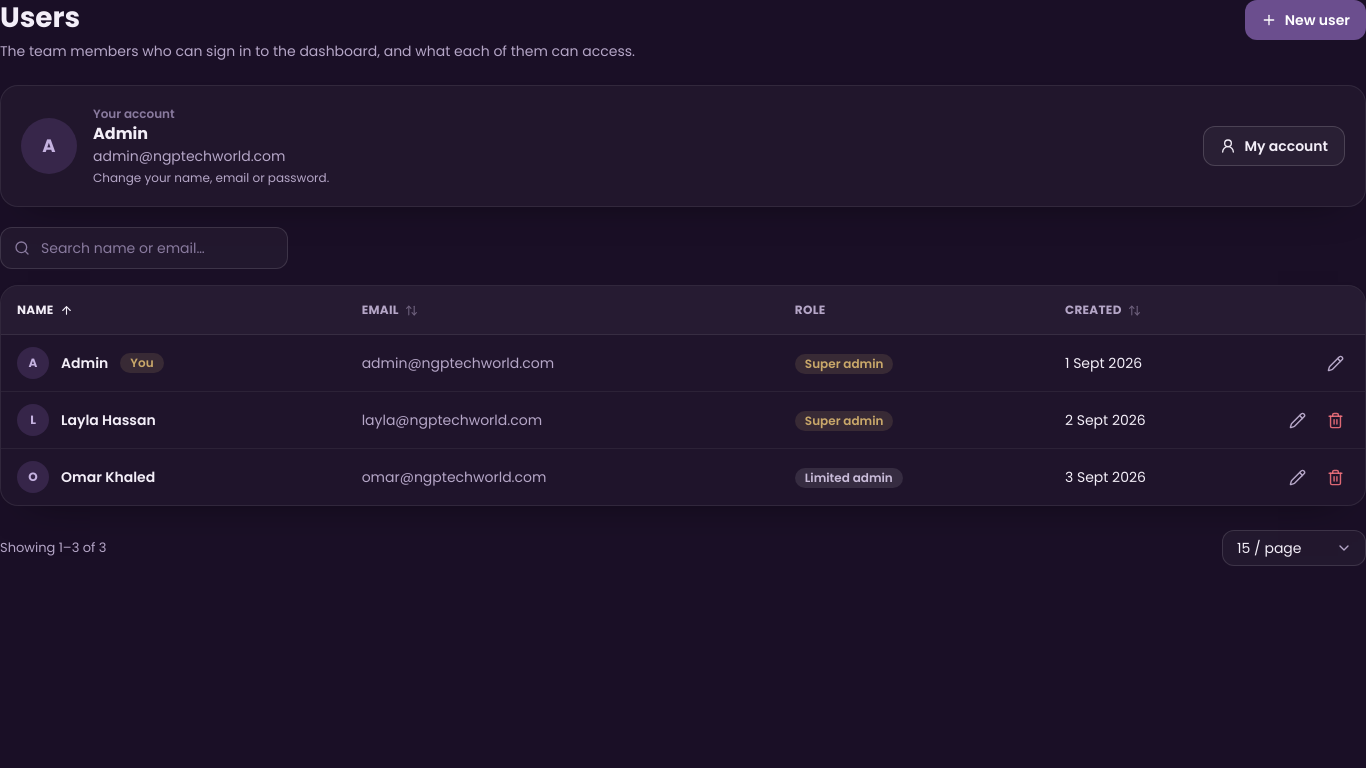
it: UserList › delete › does nothing when the dialog is cancelled
Check: the text "Layla Hassan" is shown, box x1=61 y1=410 x2=156 y2=430
What coordinates should you click on to do the following:
click the button named "Delete" in the row of "Layla Hassan"
I would click on:
 (1335, 420)
Its box is x1=1317 y1=402 x2=1353 y2=438.
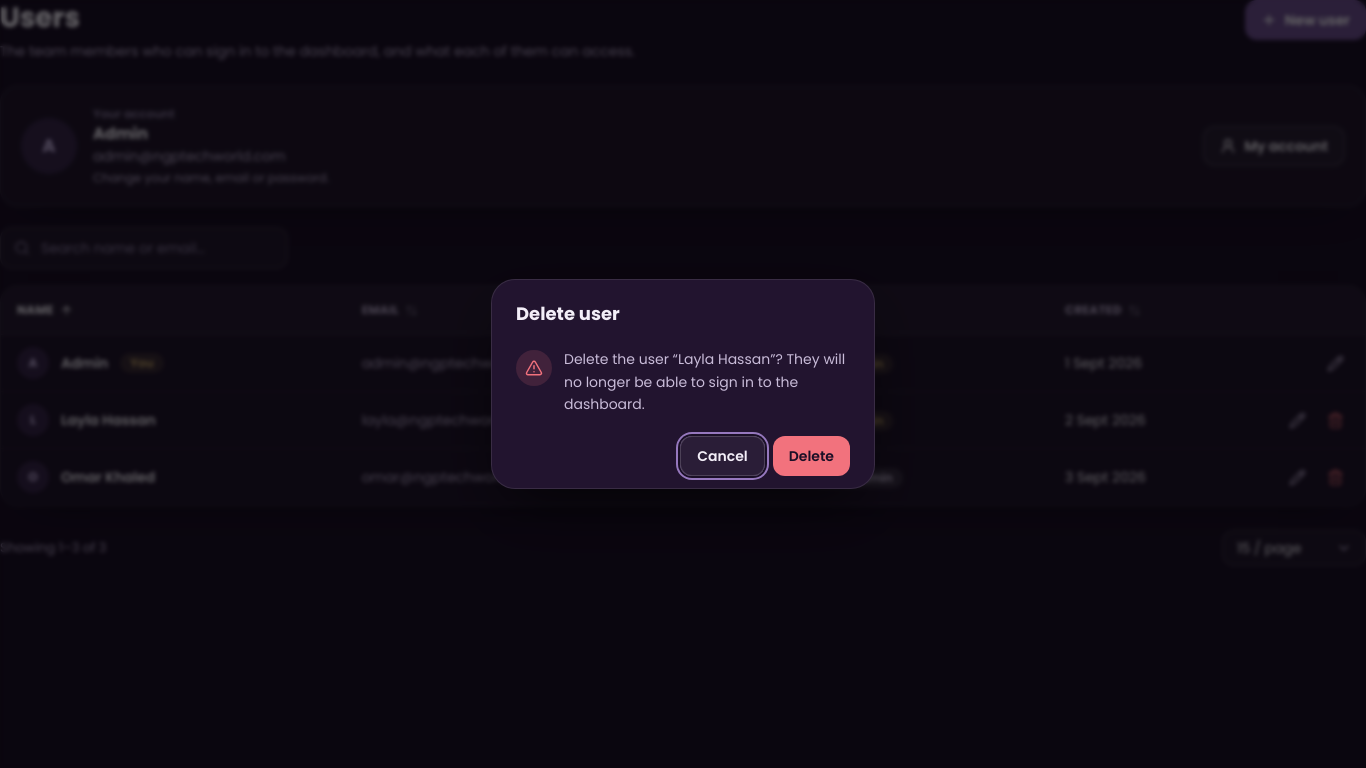
What coordinates should you click on to do the following:
click the button "Cancel"
I would click on:
 (723, 456)
Its box is x1=680 y1=436 x2=765 y2=476.
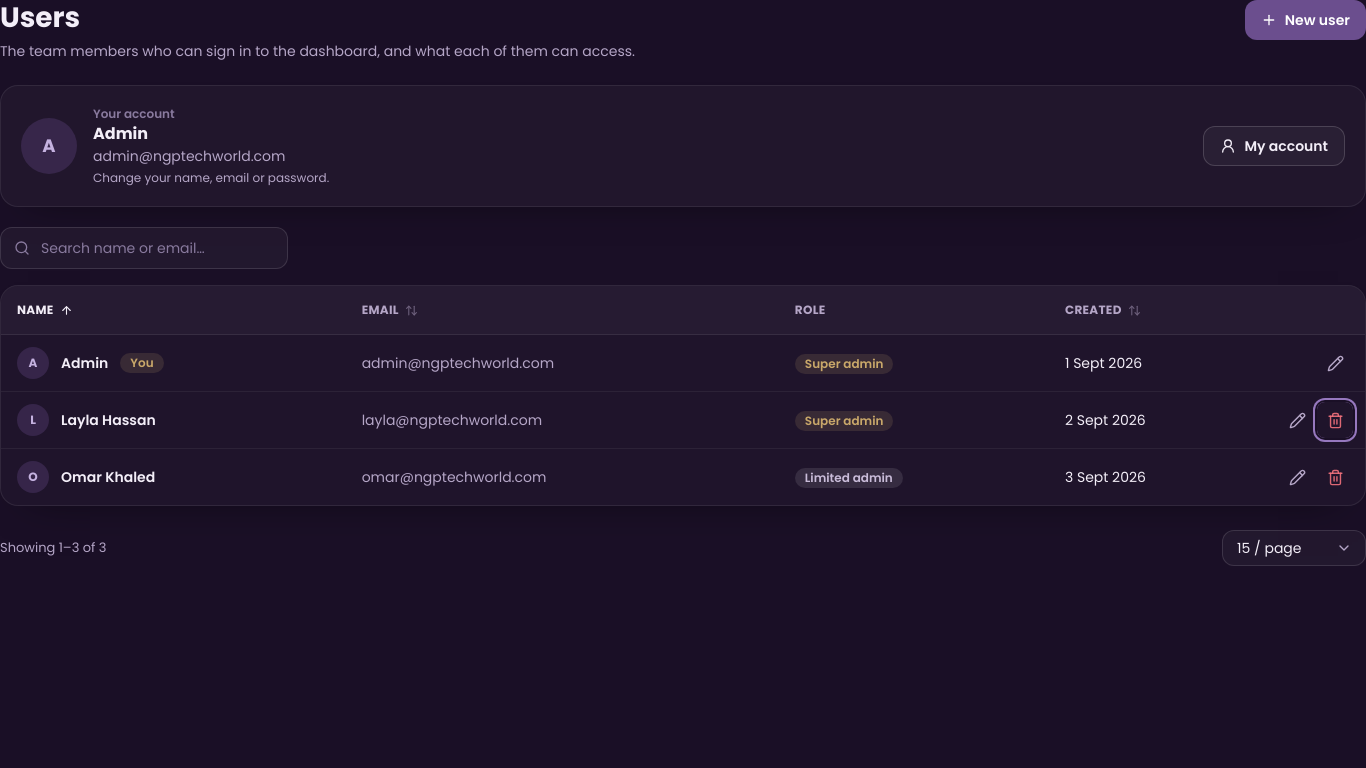
Check: the dialog is gone
